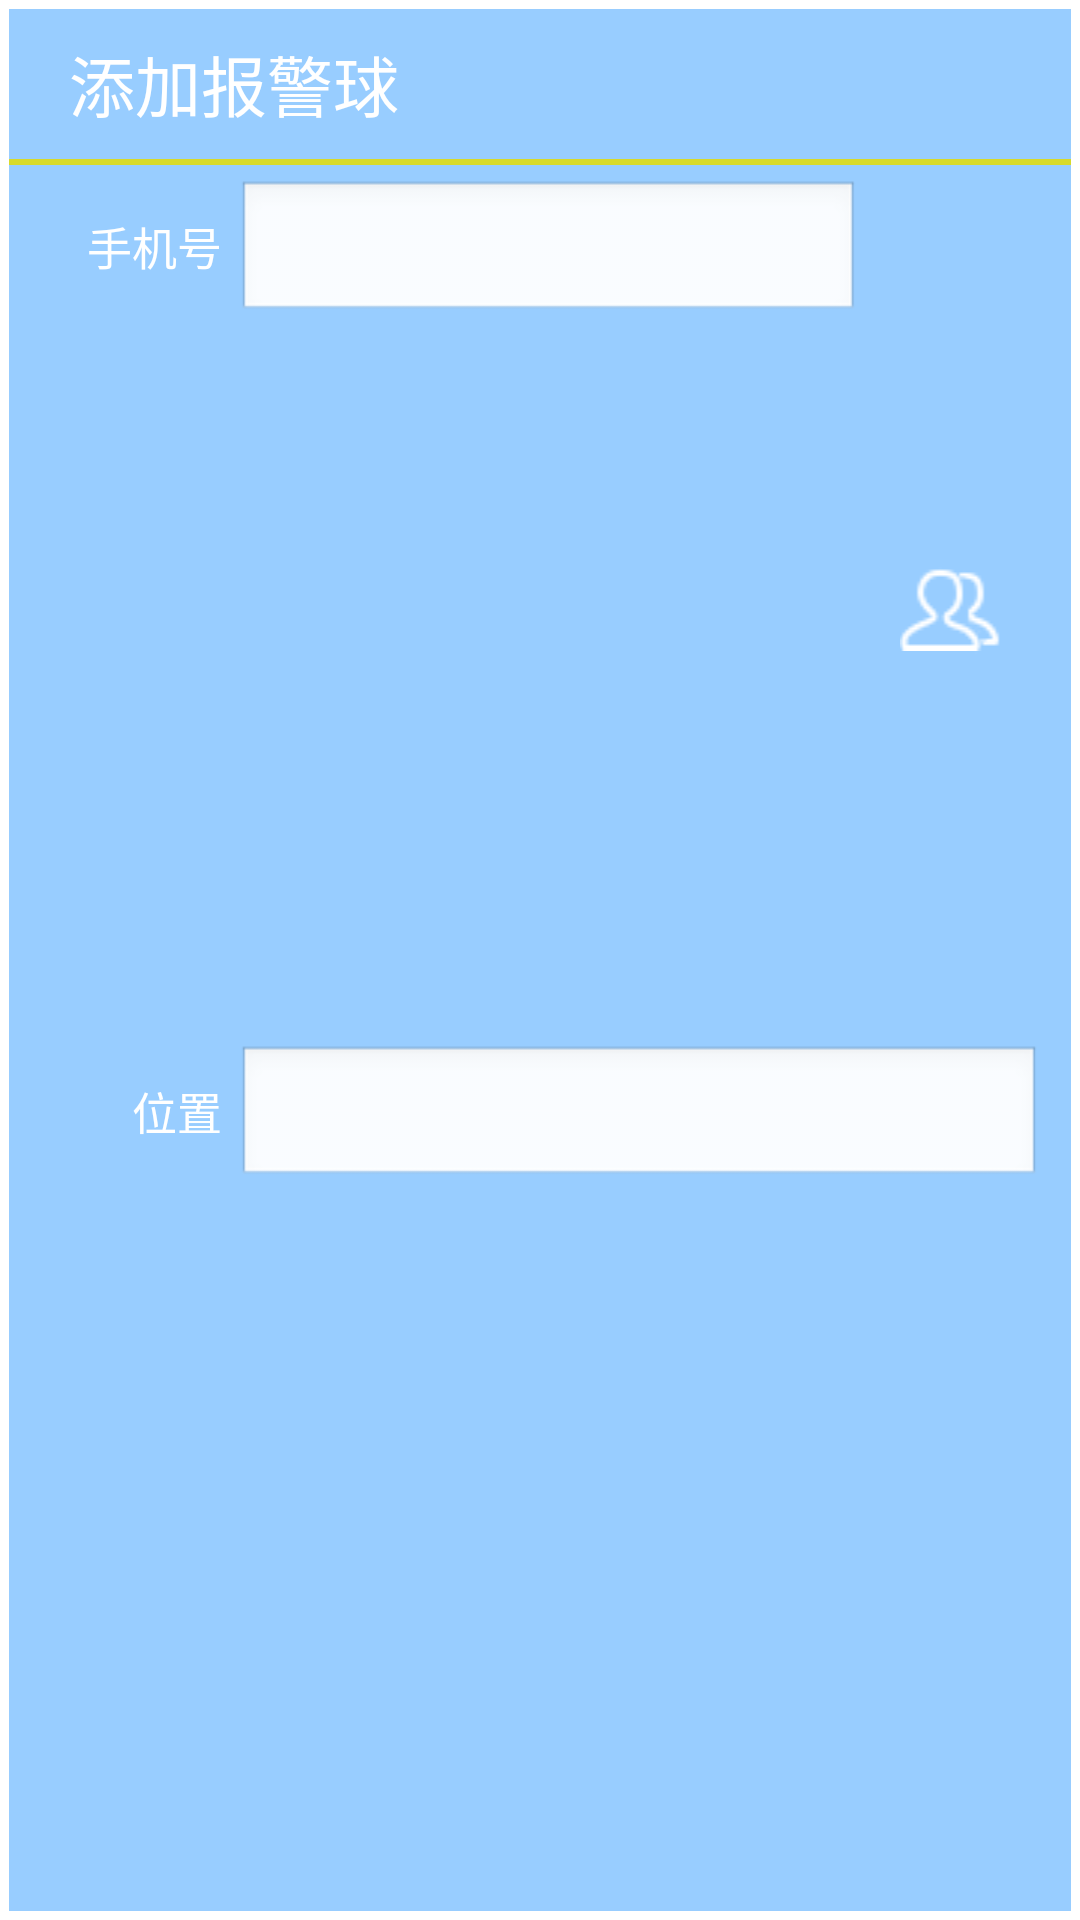

Where to tap for icons on this 1080*1920 app screen, as (x=x, y=y):
contact change: (x=949, y=610)
